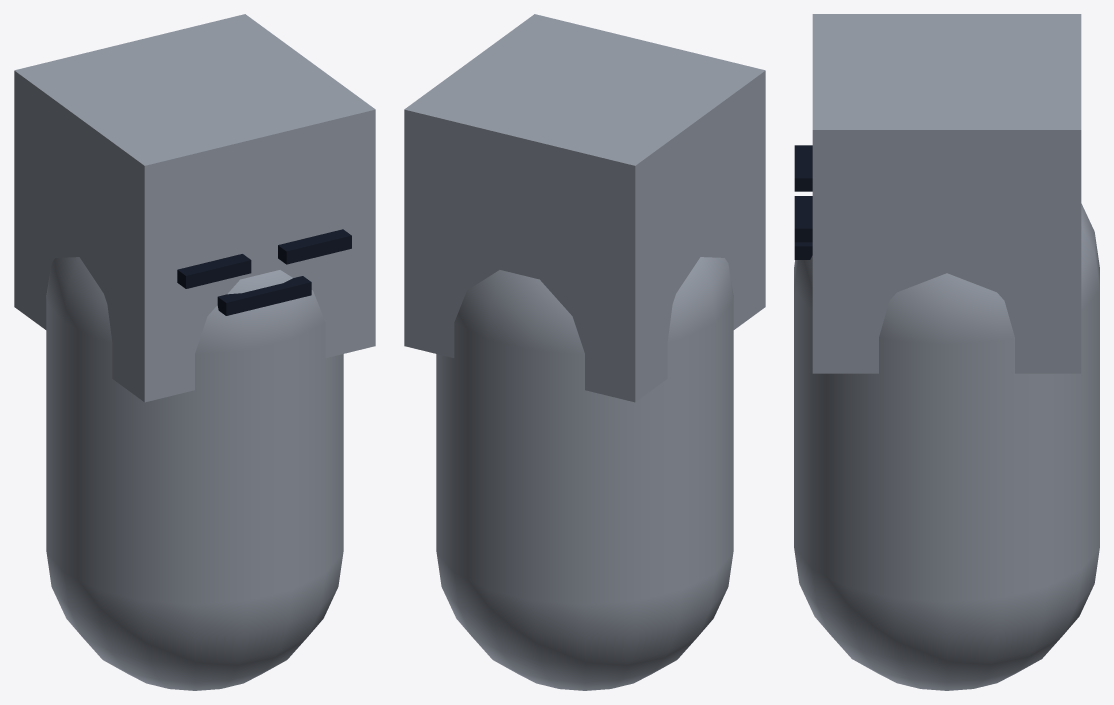
Rendered from tester.glb.
The picture shows the model from 3 angles, left to right: view 1: azimuth 30°, elevation 25°; view 2: azimuth 150°, elevation 25°; view 3: azimuth 270°, elevation 25°; orthographic projection. The views are drawn at different scales.
Size of the model in its own units: 1.04 by 2.23 by 1.02.
